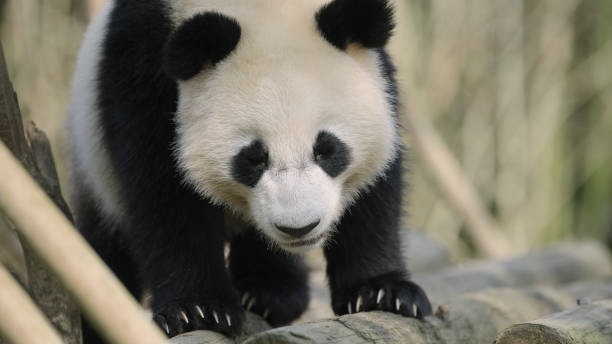panda: (139, 1, 420, 281)
